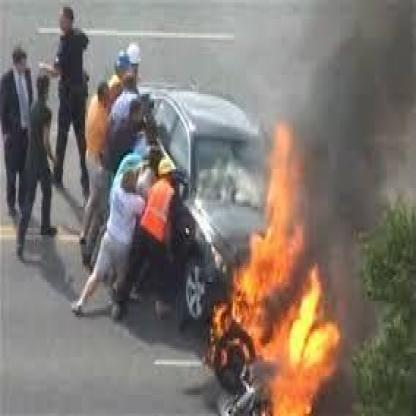fire: (201, 95, 336, 411)
smoke: (305, 0, 410, 338)
